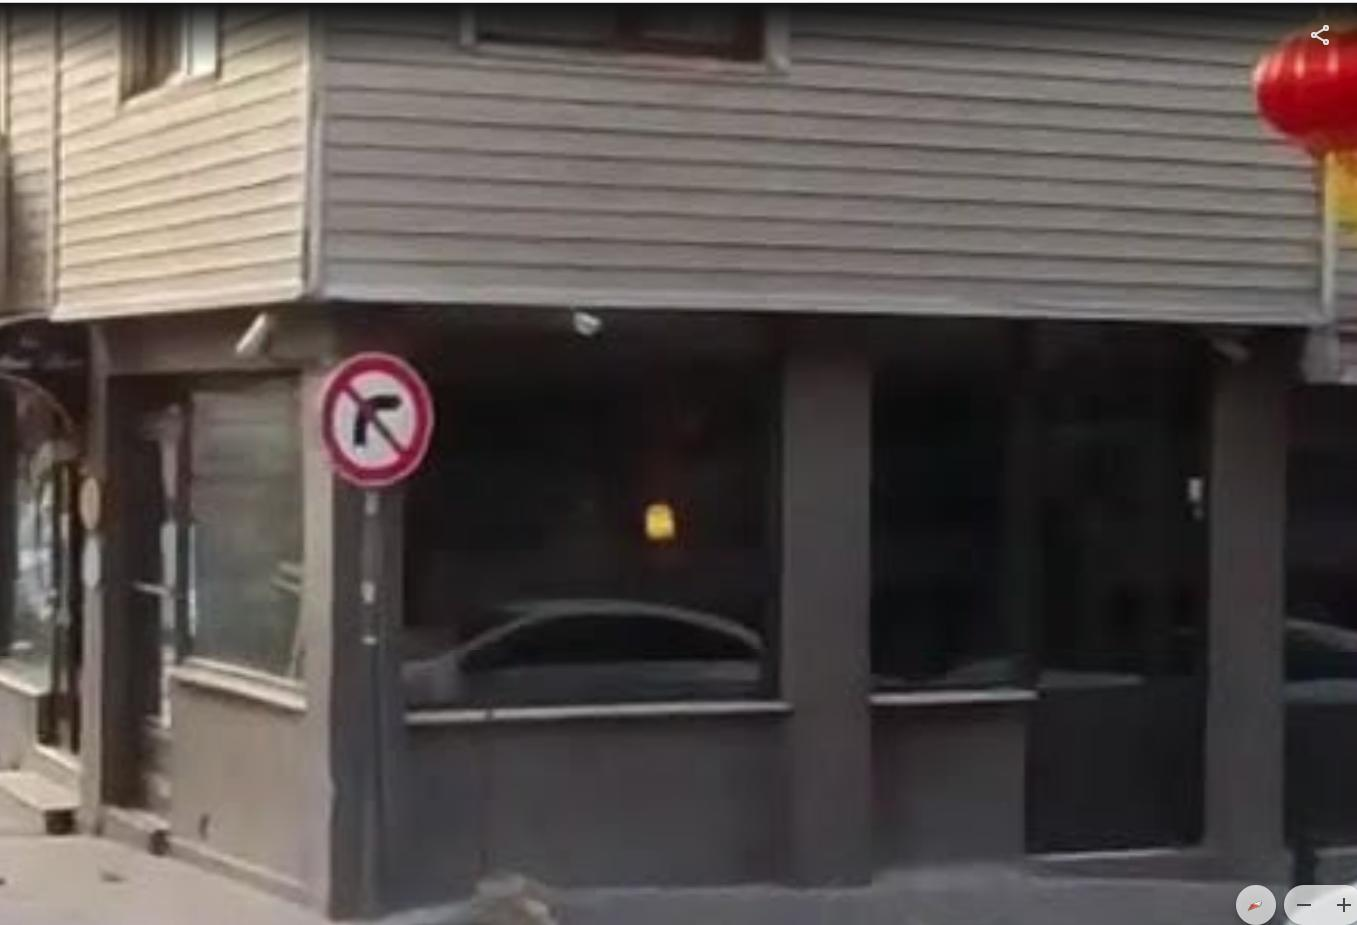rightturnsareforbidden: (320, 354, 427, 474)
